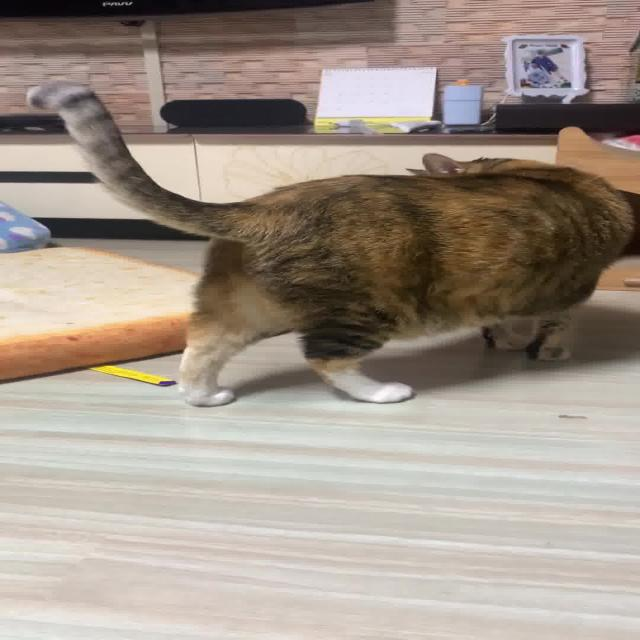cat: (23, 78, 640, 410)
